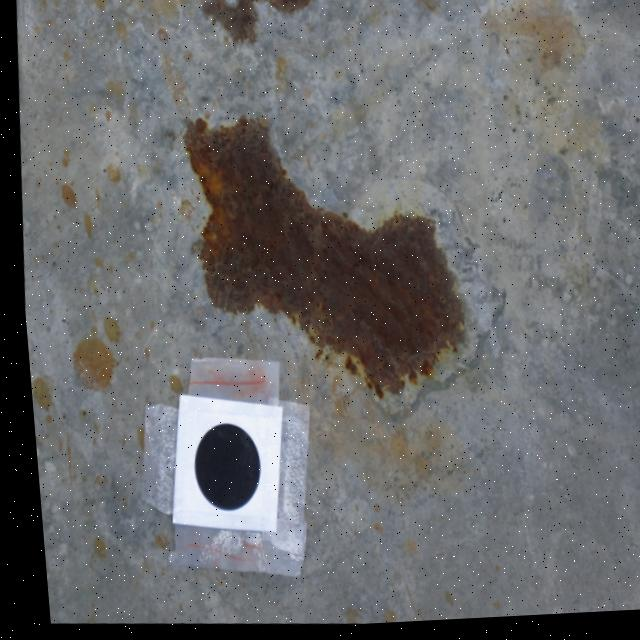corrosion: (182, 120, 458, 401), (203, 0, 315, 45)
